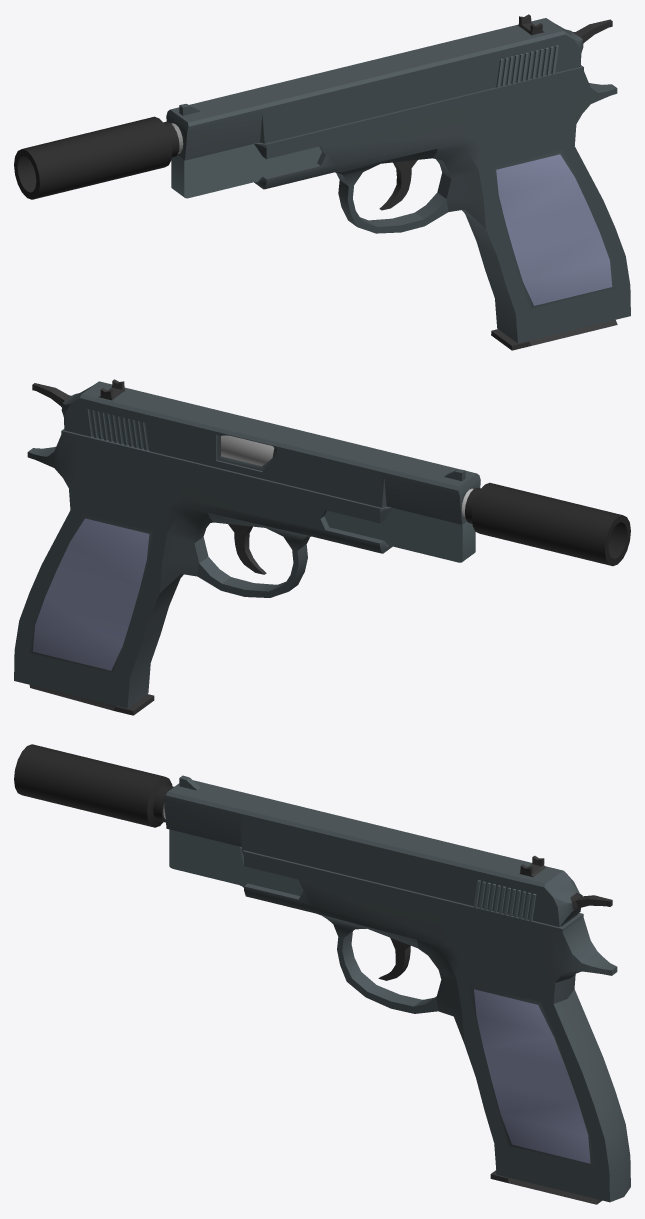
Rendered from Pistol_Blender.fbx.
3 views of the same model, one above another, from view 1: azimuth 30°, elevation 25°; view 2: azimuth 150°, elevation 25°; view 3: azimuth 330°, elevation 25° (orthographic).
Parts seen in each view (by area): view 1: Lower Part, upper part, supressor, Mag, Trigger; view 2: Lower Part, upper part, supressor, Cylinder, Mag, Trigger; view 3: Lower Part, upper part, supressor, Mag.
Part boxes in pixels (box(x1,y1,x2,y2)): Lower Part: box(171, 65, 630, 343); upper part: box(166, 14, 583, 160); supressor: box(14, 116, 179, 199); Mag: box(491, 320, 617, 350); Trigger: box(379, 160, 417, 210); Lower Part: box(14, 429, 475, 708); upper part: box(61, 379, 480, 524); supressor: box(465, 482, 630, 566); Cylinder: box(221, 435, 473, 518); Mag: box(29, 685, 154, 715); Trigger: box(228, 524, 266, 574); Lower Part: box(169, 829, 630, 1202); upper part: box(164, 775, 582, 926); supressor: box(14, 744, 173, 827); Mag: box(490, 1170, 602, 1204).
Bounding box in the file's own units: 112 × 56.61 × 8.49.
